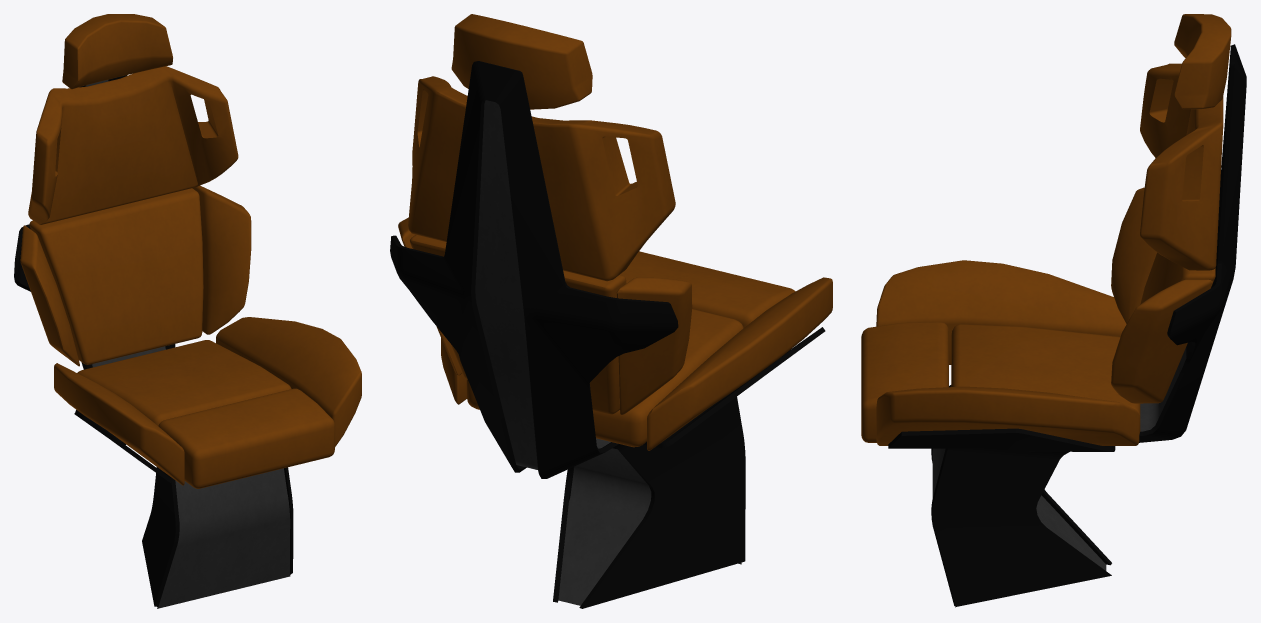
The model's file is ChairSpaceShip.fbx.
3 views of the same model, side by side, from view 1: azimuth 30°, elevation 25°; view 2: azimuth 150°, elevation 25°; view 3: azimuth 270°, elevation 25° (orthographic). The views are drawn at different scales.
Visible parts, largest first — view 1: Chair; view 2: Chair; view 3: Chair.
Part boxes in pixels (x1,y1,x2,y2): Chair: (14,14,361,608); Chair: (390,14,832,608); Chair: (861,14,1246,607).
Size of the model in its own units: 66.71 by 129 by 82.44.
